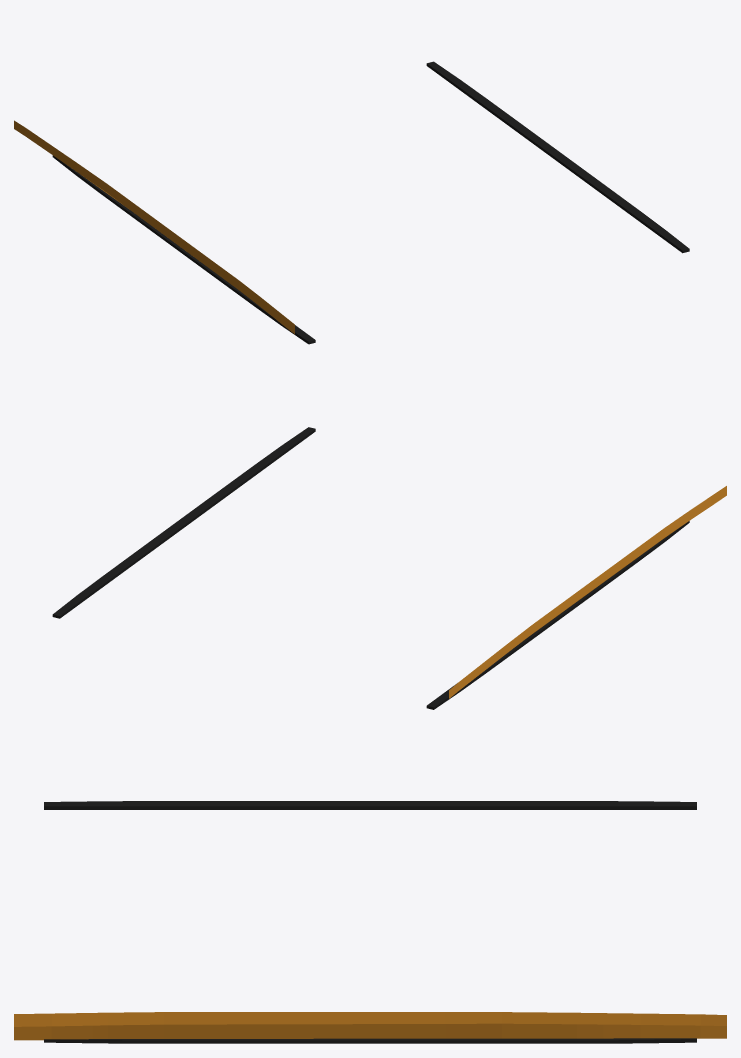
The model's file is protoCoupe_sideSkirts_hayate.glb.
The picture shows the model from 3 angles, top to bottom: view 1: azimuth 30°, elevation 25°; view 2: azimuth 150°, elevation 25°; view 3: azimuth 270°, elevation 25°; orthographic projection. The views are drawn at different scales.
Parts seen in each view (by area): view 1: sideSkirts_hayate; view 2: sideSkirts_hayate; view 3: sideSkirts_hayate.
Part boxes in pixels (<box>): sideSkirts_hayate: <box>14,61,689,344</box>; sideSkirts_hayate: <box>52,427,726,709</box>; sideSkirts_hayate: <box>14,801,726,1043</box>.
Bounding box in the file's own units: 1.71 × 0.1306 × 1.9.
